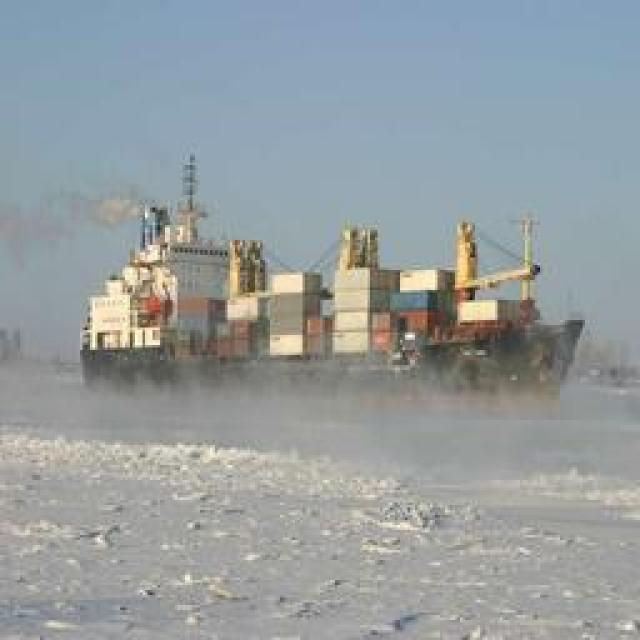ship2: (80, 204, 583, 397)
